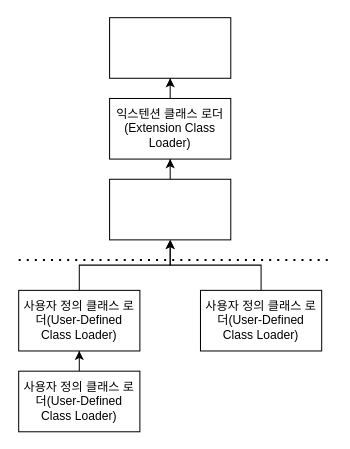
The diagram is 350 pixels wide and 449 high, and some of its shapes have lost their labels. The shapes that lost their labels are listed below. From the top down, each one's centre as x and y in pixels, then its label:
At [170,47]: "부트스트랩 클래스 로더(Bootstrap Class Loader)".
At [170,209]: "시스템 클래스 로더(System Class Loader)".
